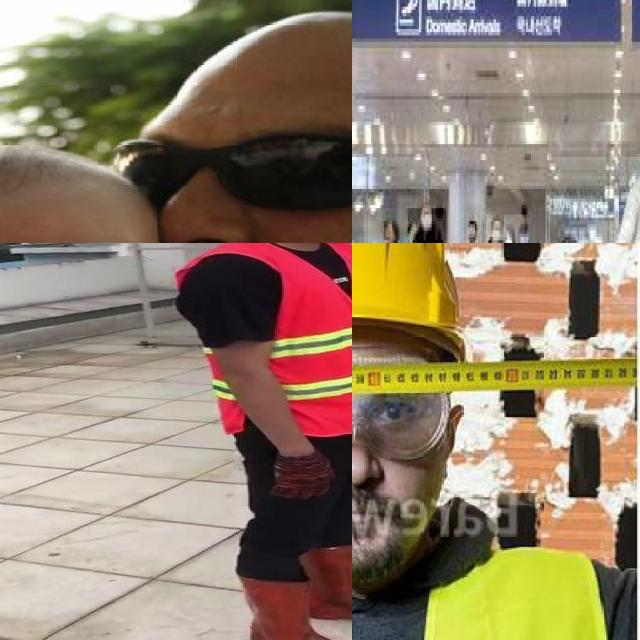boots: (234, 574, 352, 640), (300, 543, 352, 626)
face_mask: (421, 208, 432, 231), (491, 220, 500, 243), (467, 224, 475, 243), (518, 230, 527, 243), (504, 230, 512, 243)
face_nomask: (105, 130, 352, 243), (352, 393, 428, 538), (384, 220, 392, 243)
glasses: (96, 124, 352, 220), (352, 360, 453, 465)
head_helmet: (352, 243, 463, 358)
head_nohelmet: (153, 3, 352, 86), (0, 137, 131, 214), (558, 230, 580, 243)
person: (352, 243, 632, 640), (170, 243, 352, 640)
vest: (169, 243, 352, 435), (352, 554, 615, 640)
